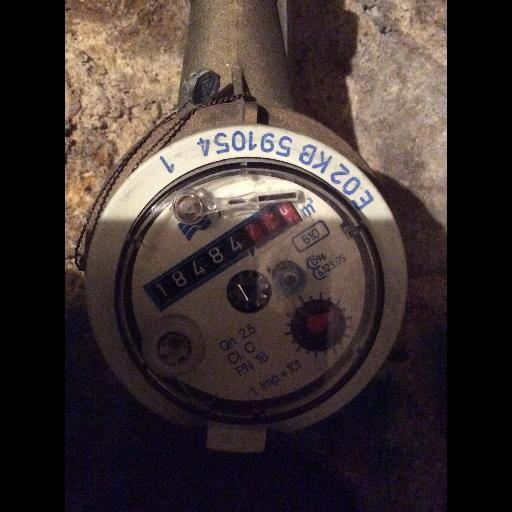0: (254, 205, 287, 238), (273, 195, 303, 229)
1: (151, 277, 178, 306)
4: (218, 230, 249, 261), (182, 254, 212, 284)
7: (236, 218, 267, 250)
8: (200, 242, 230, 273), (165, 265, 195, 295)
border_water_meter_number: (142, 193, 305, 315)
